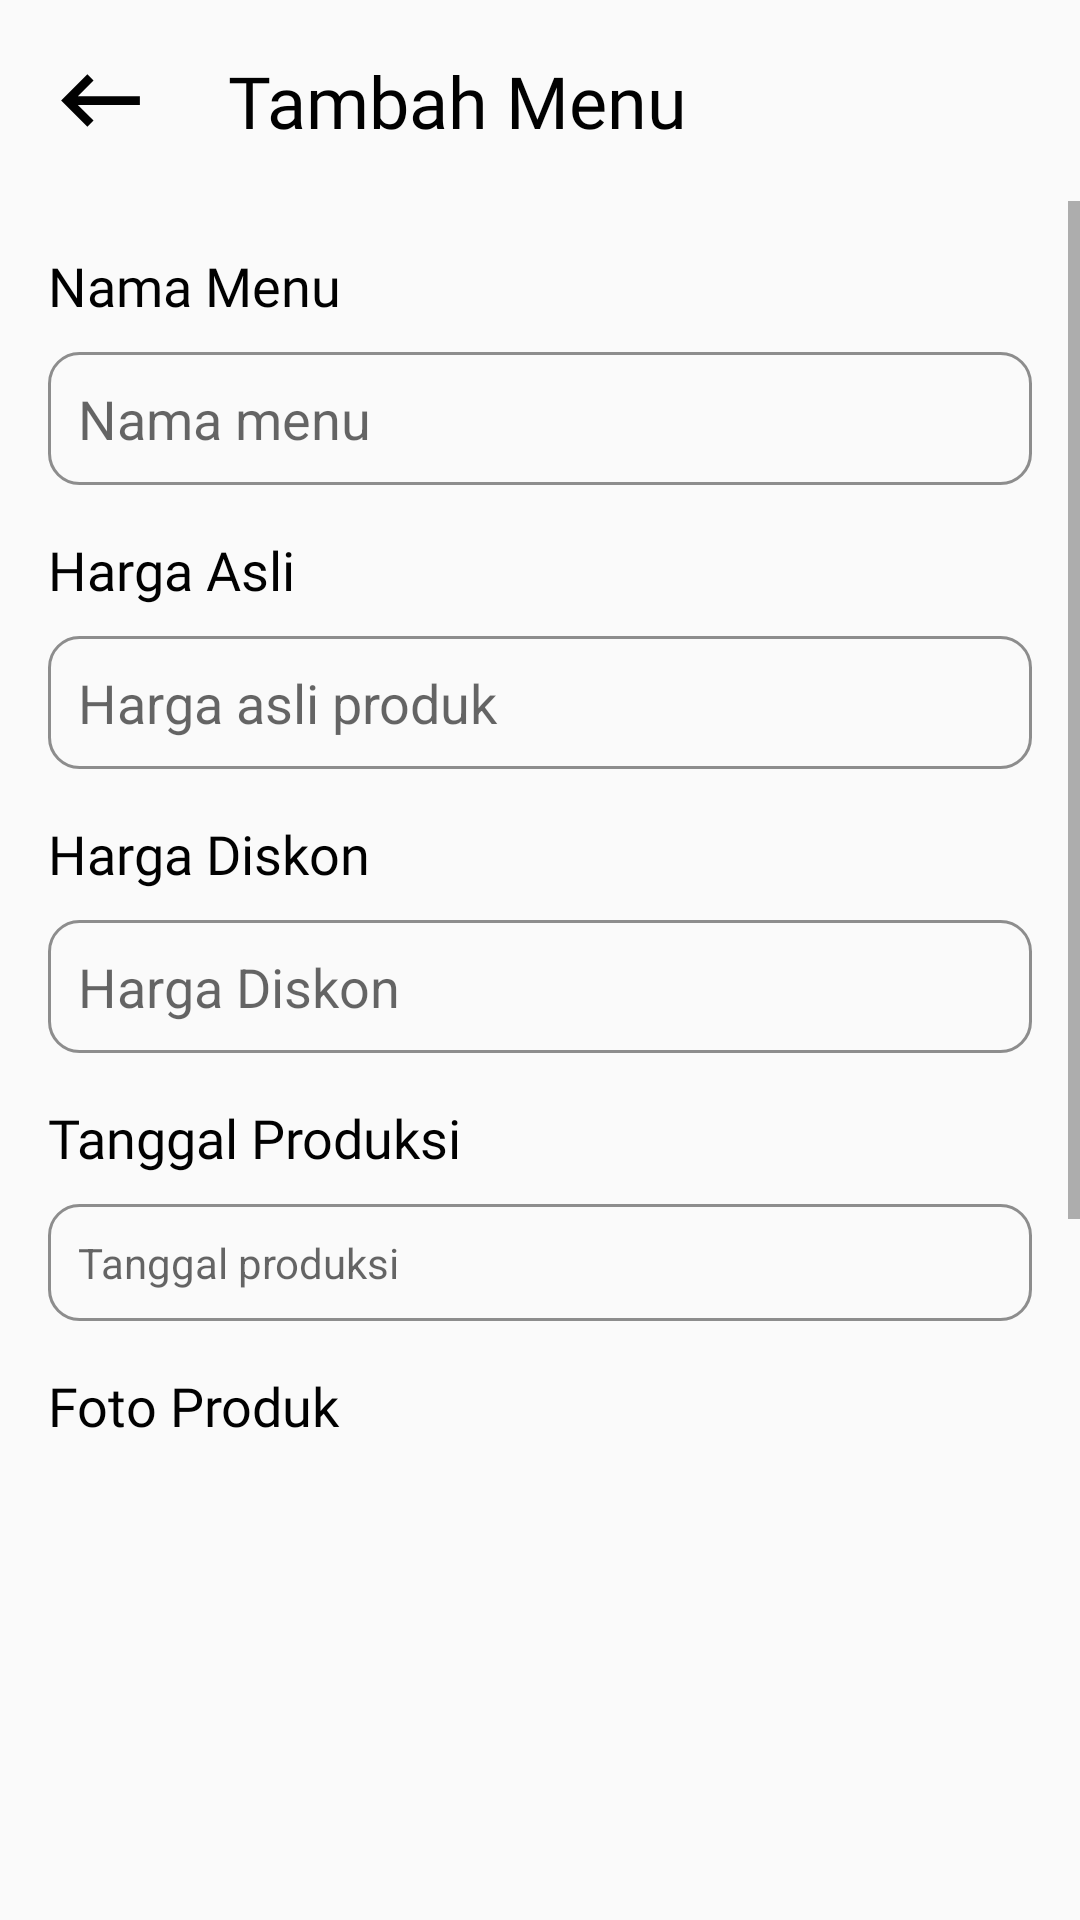

Named icons in this screenshot (1080 × 1920) and their centers, (x,y):
keyboard backspace: (100,100)
